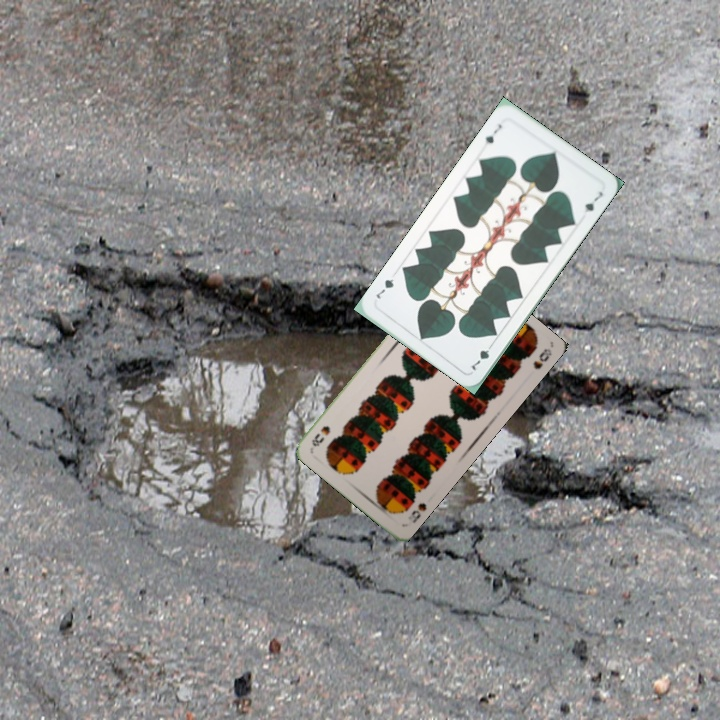G7: (467, 338, 496, 373), (481, 120, 505, 147)
S8: (407, 499, 429, 526)
